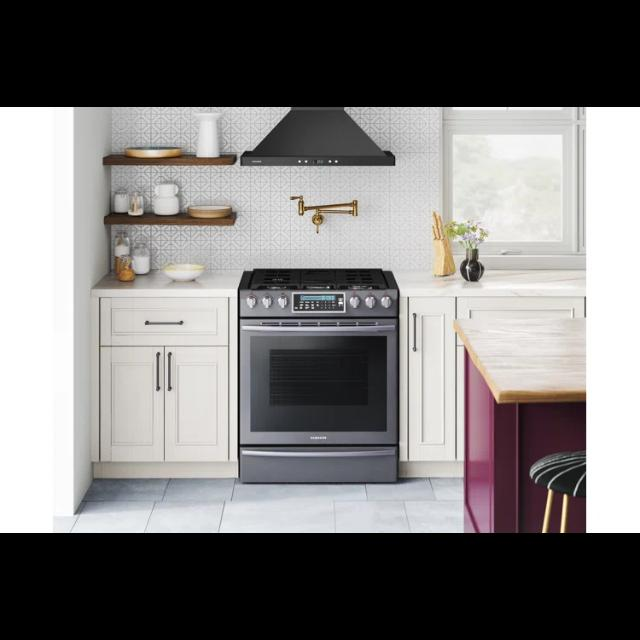Oven: (237, 272, 403, 478)
